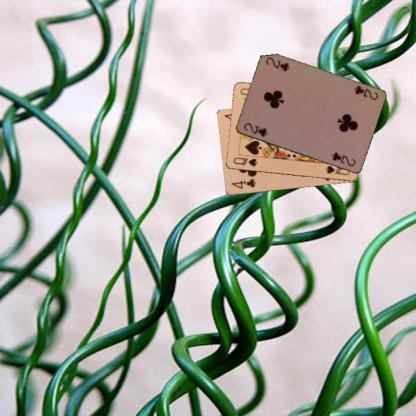2c: (241, 120, 269, 138), (351, 83, 379, 101)
4c: (229, 176, 257, 190)
Qs: (231, 155, 258, 167)
